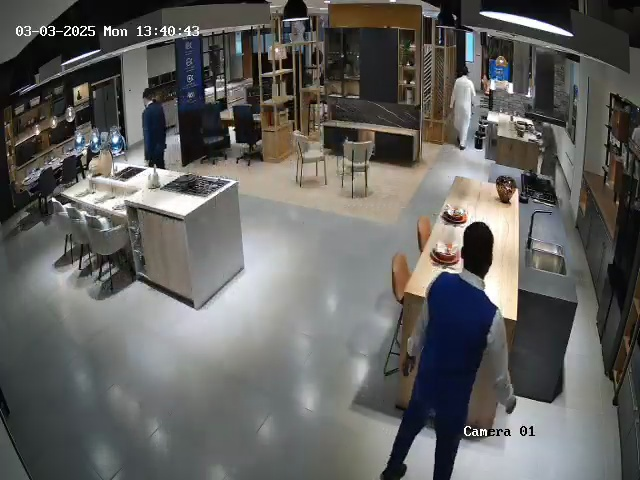employee: (378, 221, 516, 479), (142, 88, 167, 170)
male: (449, 65, 477, 151)
